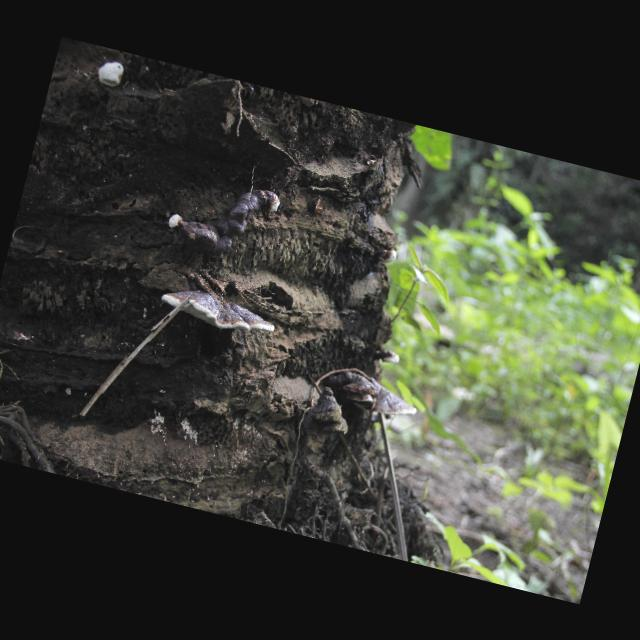ganoderma: (177, 173, 269, 266), (156, 280, 280, 344), (352, 375, 424, 425), (333, 370, 383, 410), (372, 348, 402, 366)
primordium: (95, 58, 127, 90), (376, 245, 400, 267), (263, 192, 283, 217), (166, 213, 185, 233)
